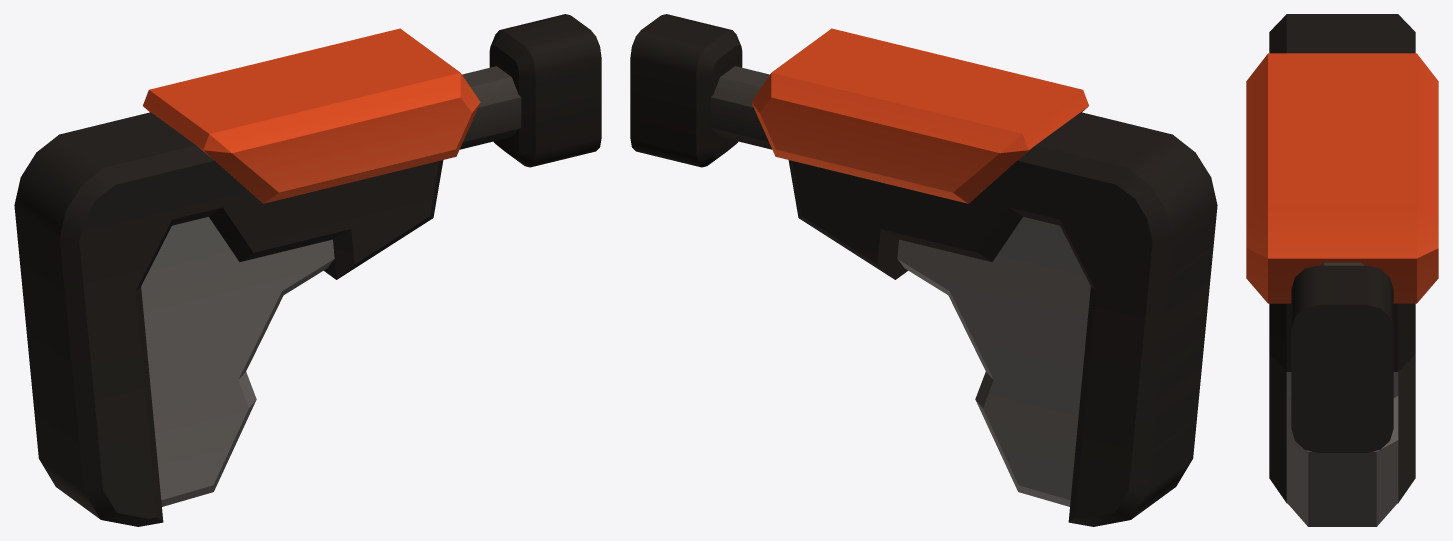
File: SMG6_ButtstockHeavy.fbx
3 views of the same model, side by side, from view 1: azimuth 30°, elevation 25°; view 2: azimuth 150°, elevation 25°; view 3: azimuth 270°, elevation 25° (orthographic). The views are drawn at different scales.
Visible parts, largest first — view 1: SMG6_ButtstockHeavy; view 2: SMG6_ButtstockHeavy; view 3: SMG6_ButtstockHeavy.
Part boxes in pixels (x1,y1,x2,y2): SMG6_ButtstockHeavy: [14, 14, 601, 526]; SMG6_ButtstockHeavy: [630, 14, 1217, 526]; SMG6_ButtstockHeavy: [1246, 14, 1438, 526].
Size of the model in its own units: 19.26 by 13.02 by 4.8.
